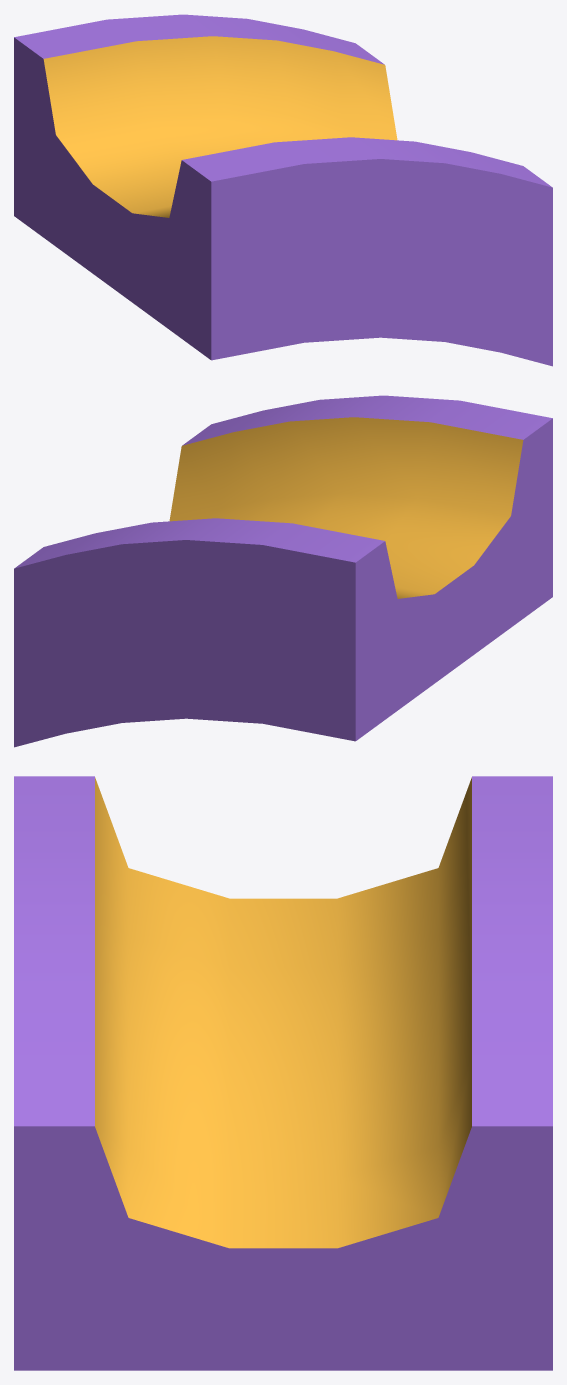
The model's file is ramp-end-b-col.glb.
The picture shows the model from 3 angles, top to bottom: view 1: azimuth 30°, elevation 25°; view 2: azimuth 150°, elevation 25°; view 3: azimuth 270°, elevation 25°; orthographic projection. The views are drawn at different scales.
Parts seen in each view (by area): view 1: ramp-end-b-col; view 2: ramp-end-b-col; view 3: ramp-end-b-col.
Boxes of the visible parts, x1,y1,x2,y2 form: ramp-end-b-col: [14, 14, 552, 366]; ramp-end-b-col: [14, 395, 552, 747]; ramp-end-b-col: [14, 776, 552, 1370].
Size of the model in its own units: 1 by 0.75 by 1.
Materials: 1 (1 with a texture image).
